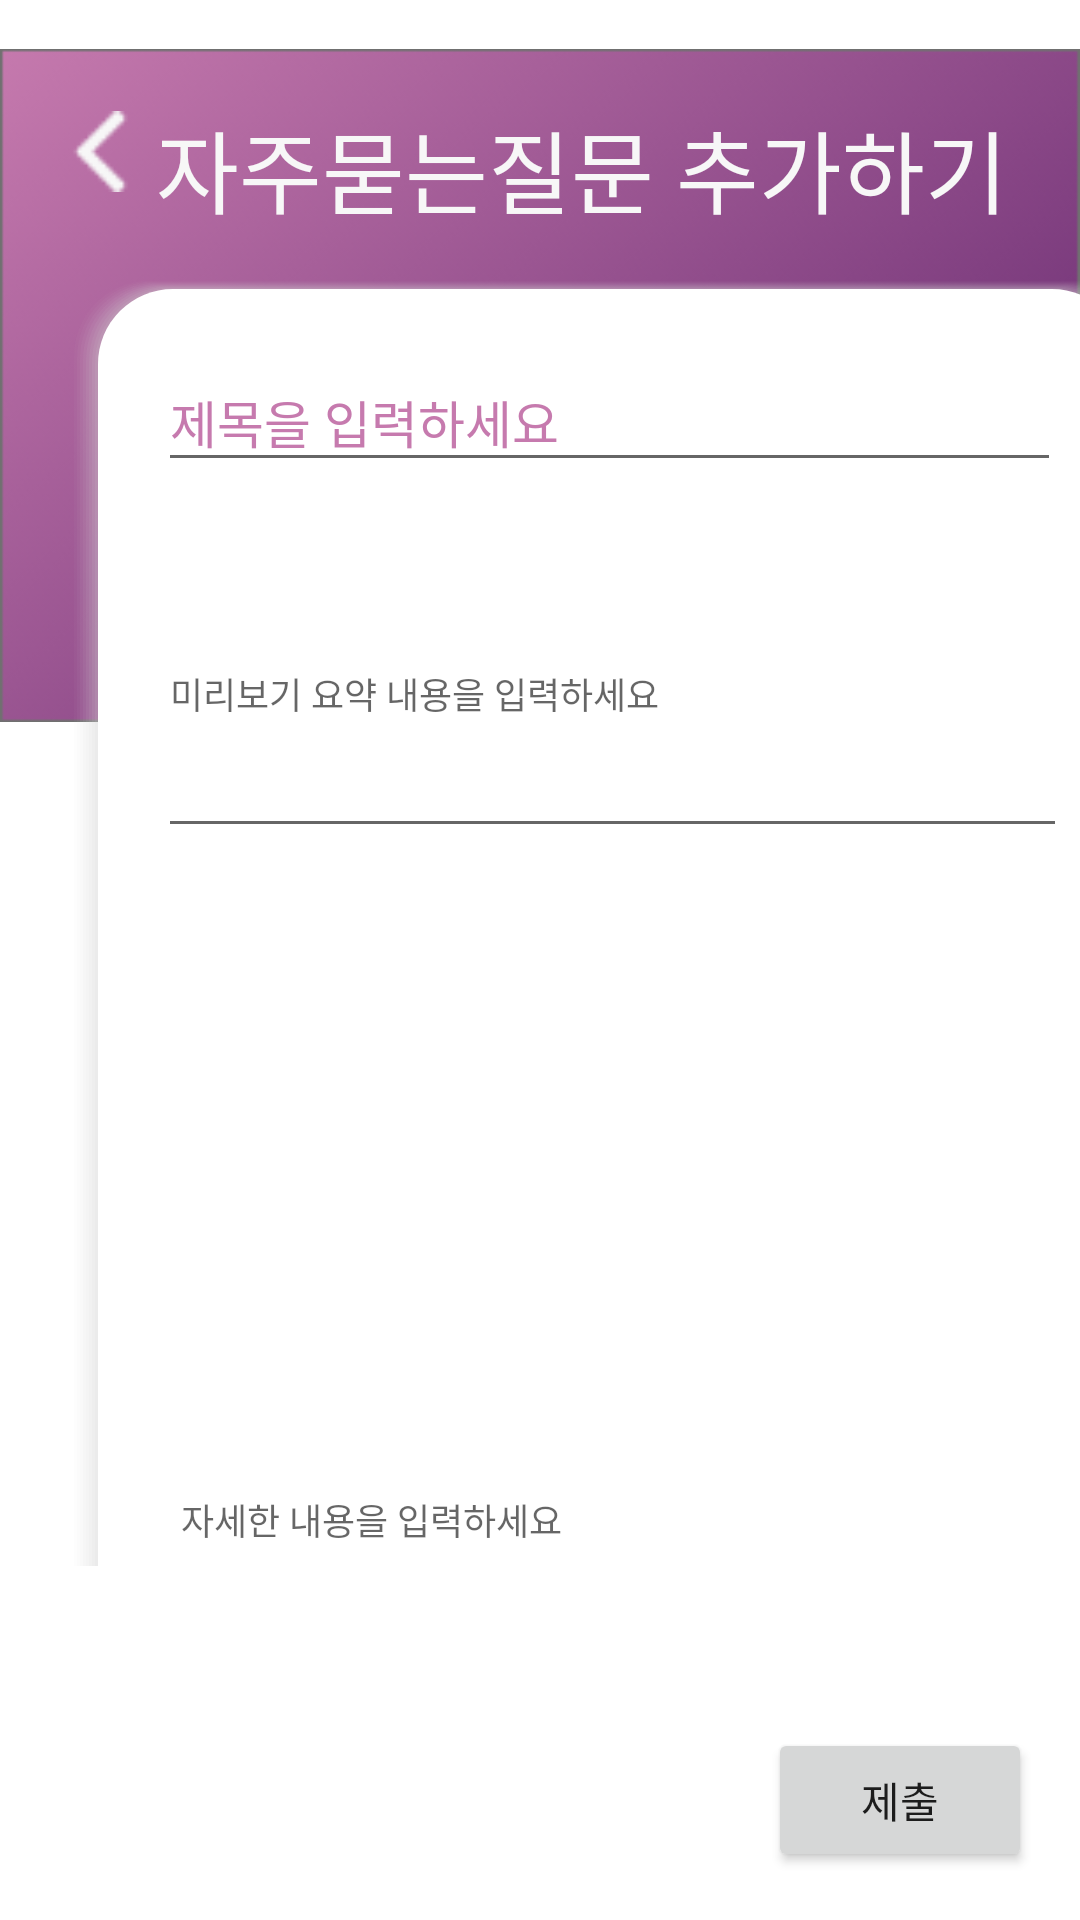

Locate icon controls on the screen. Image size 1080w x 1920h, boxes as (x1, y1, x2, y2).
arrow: (75, 111, 126, 192)
